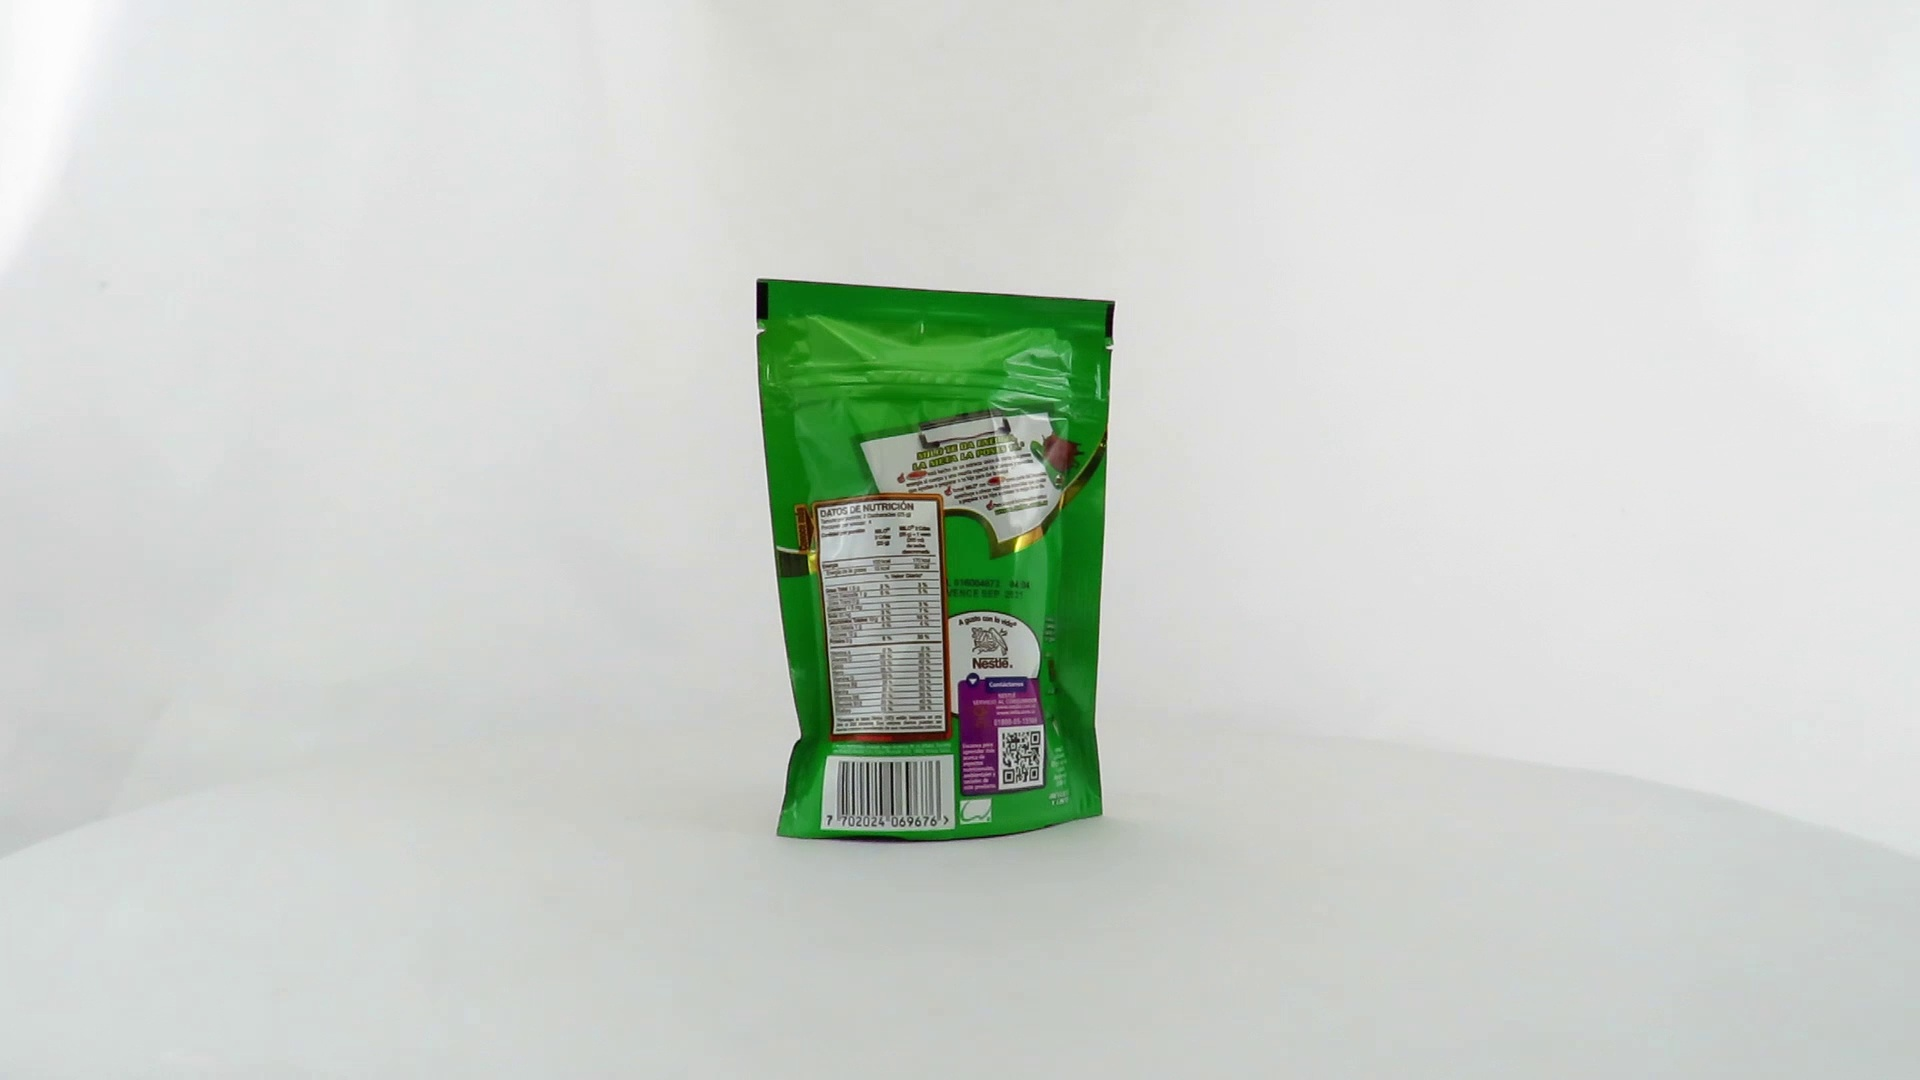COL0170203DYP10000: (752, 273, 1121, 849)
